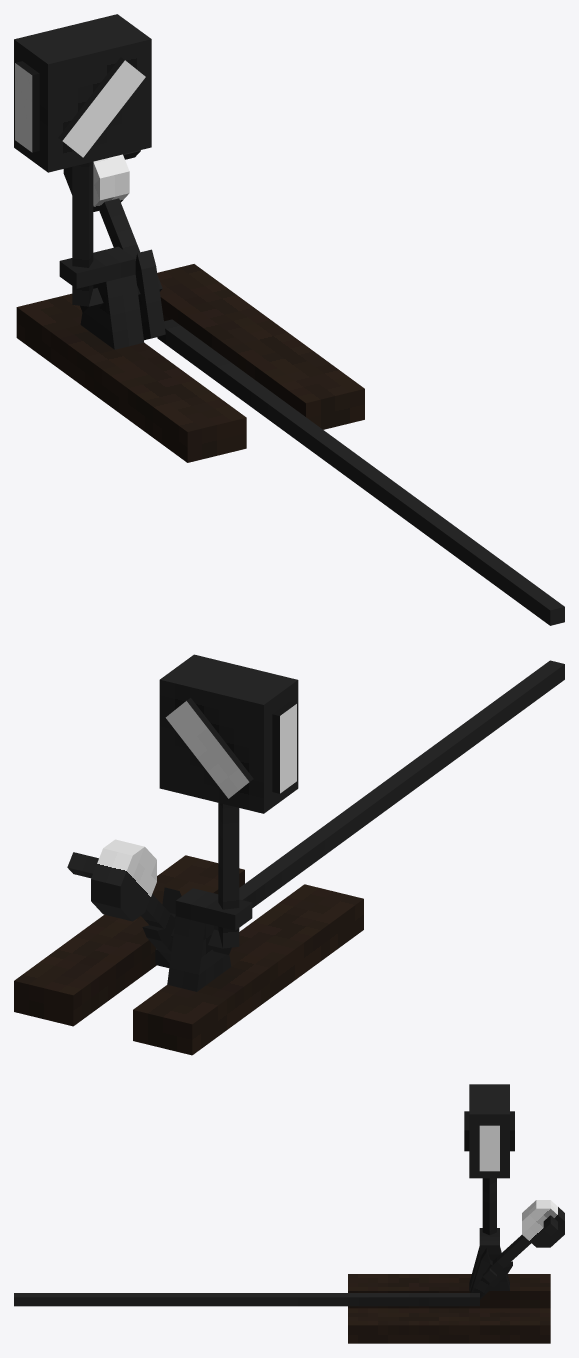
File: switch_left_off.obj
3 renders of one model, top to bottom at view 1: azimuth 30°, elevation 25°; view 2: azimuth 150°, elevation 25°; view 3: azimuth 270°, elevation 25°, orthographic. The views are drawn at different scales.
Visible parts, largest first — view 1: base_RAIL_BASE.001; view 2: base_RAIL_BASE.001; view 3: base_RAIL_BASE.001.
Boxes of the visible parts, x1=… form: base_RAIL_BASE.001: x1=14, y1=14, x2=564, y2=625; base_RAIL_BASE.001: x1=14, y1=654, x2=564, y2=1055; base_RAIL_BASE.001: x1=14, y1=1084, x2=564, y2=1343.
Bounding box in the file's own units: 0.9375 × 1.34 × 3.4.
1 material, 1 textured.
